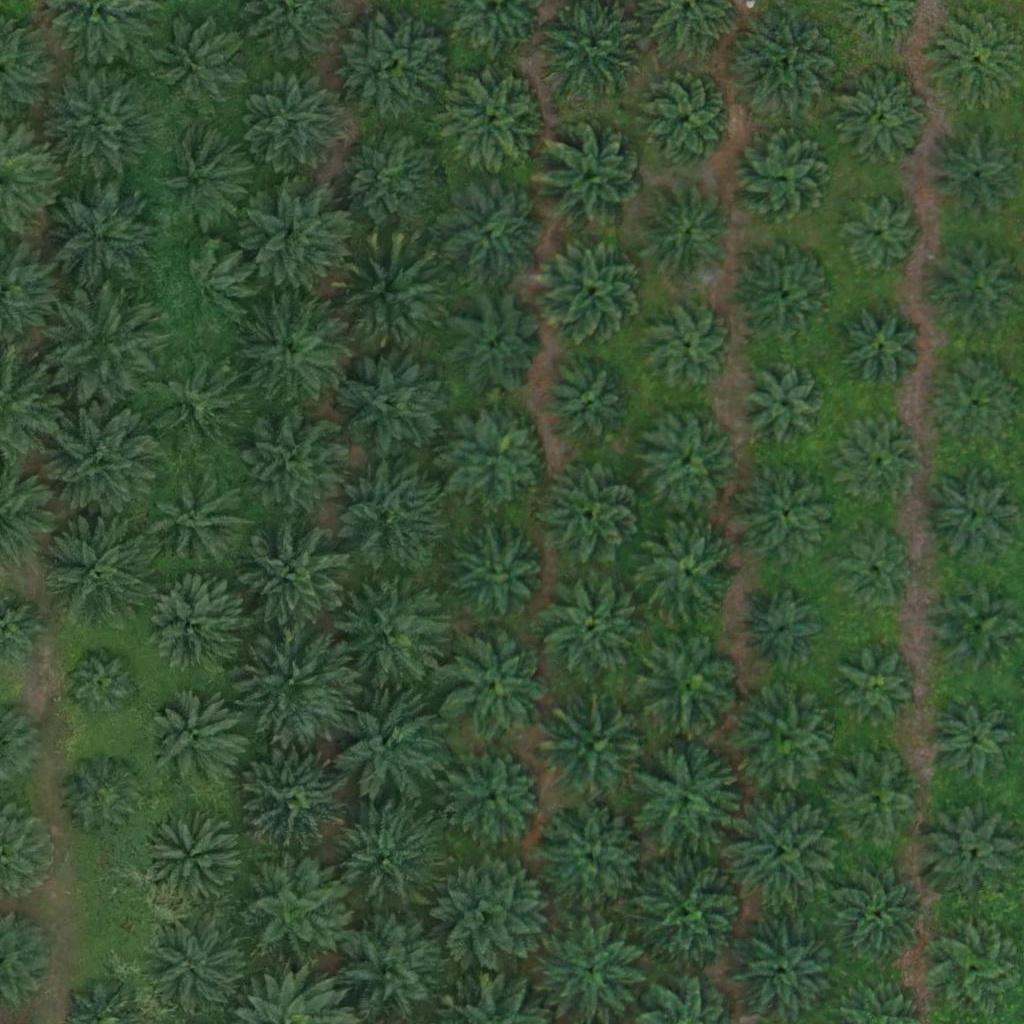Kelapa_Sawit: (41, 506, 154, 620), (239, 66, 352, 179), (535, 123, 648, 236), (537, 233, 650, 346), (336, 346, 449, 459), (332, 456, 445, 569), (241, 180, 354, 293), (232, 293, 345, 406), (238, 410, 351, 523), (240, 628, 353, 741), (241, 745, 354, 858), (337, 576, 450, 689), (334, 690, 447, 803), (328, 801, 441, 914), (436, 856, 549, 969), (629, 743, 742, 856), (727, 795, 840, 908), (728, 7, 840, 121), (238, 521, 350, 635), (45, 287, 157, 401), (47, 404, 159, 518), (44, 66, 156, 179), (343, 10, 455, 123), (334, 126, 446, 239), (333, 241, 445, 354), (43, 181, 155, 294), (236, 854, 348, 967), (441, 630, 553, 743), (536, 569, 648, 682), (543, 696, 655, 809), (536, 802, 648, 915), (636, 861, 748, 974), (739, 463, 839, 564), (637, 182, 737, 283), (638, 410, 738, 511), (638, 527, 738, 628), (542, 464, 642, 565), (441, 69, 541, 170), (438, 181, 538, 282), (447, 297, 547, 398), (448, 407, 548, 508), (445, 521, 545, 622), (153, 127, 253, 228), (141, 578, 241, 679), (147, 690, 247, 791), (142, 808, 242, 909), (447, 747, 547, 848), (834, 66, 934, 166), (733, 128, 833, 228), (737, 244, 837, 344), (637, 69, 737, 169), (145, 354, 245, 454), (149, 473, 249, 573), (152, 922, 252, 1022), (639, 631, 739, 731), (737, 691, 837, 791), (825, 749, 925, 849), (923, 797, 1023, 897), (837, 195, 925, 283), (546, 359, 634, 447), (162, 244, 250, 332), (931, 698, 1019, 786), (930, 920, 1018, 1008), (157, 20, 244, 108), (932, 366, 1019, 454), (744, 358, 831, 446), (646, 302, 733, 390), (60, 754, 147, 842), (837, 869, 924, 957), (846, 312, 921, 388), (844, 423, 919, 499), (747, 593, 822, 669), (841, 646, 916, 722), (836, 538, 911, 613), (63, 646, 138, 721)
